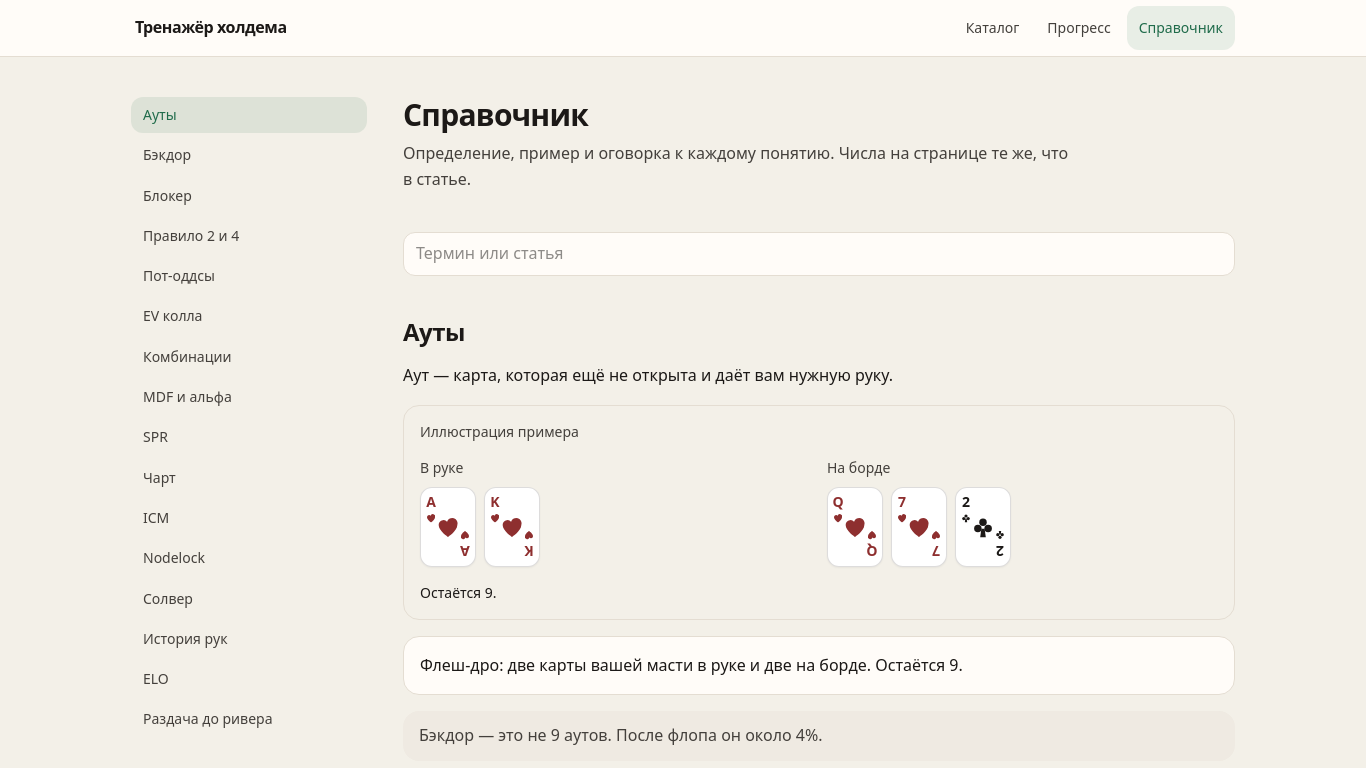
справочник объясняет ICM и не даёт тренировать несуществующий режим
The width and height of the screenshot is (1366, 768).
In the field named "Фильтр терминов": (819, 254) [403,232,1235,276], type "эквити"
(page scrolled)
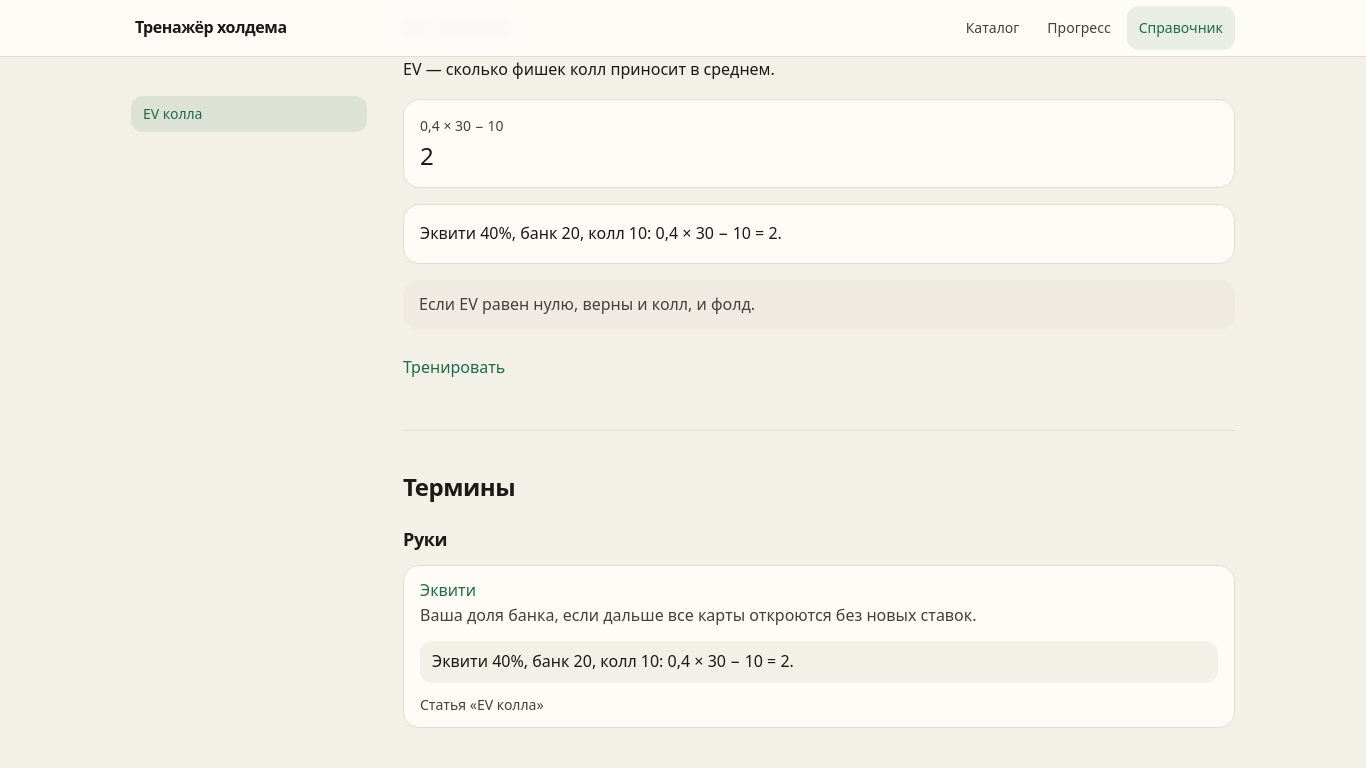
Expected: the link "Эквити" is shown, [420,579,476,601]
Expected: the link "Бэкдор" is gone
